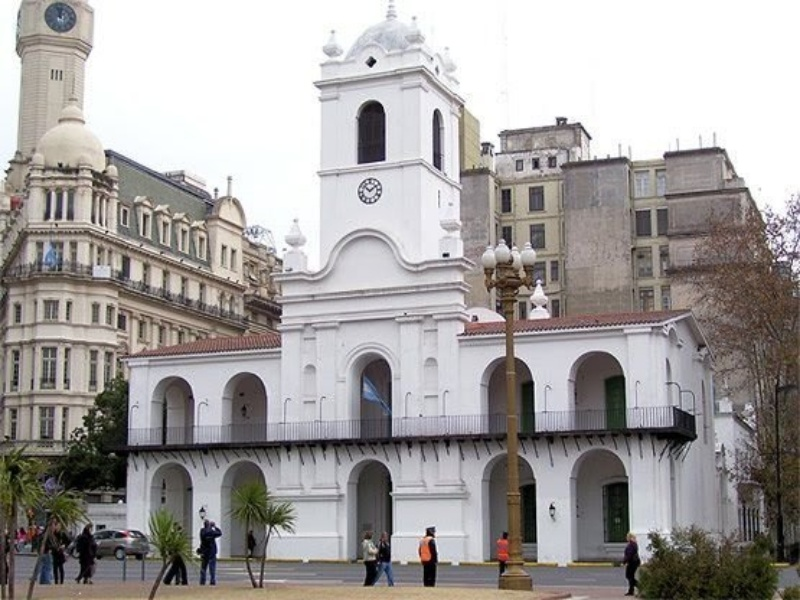cabildo: (105, 2, 697, 565)
